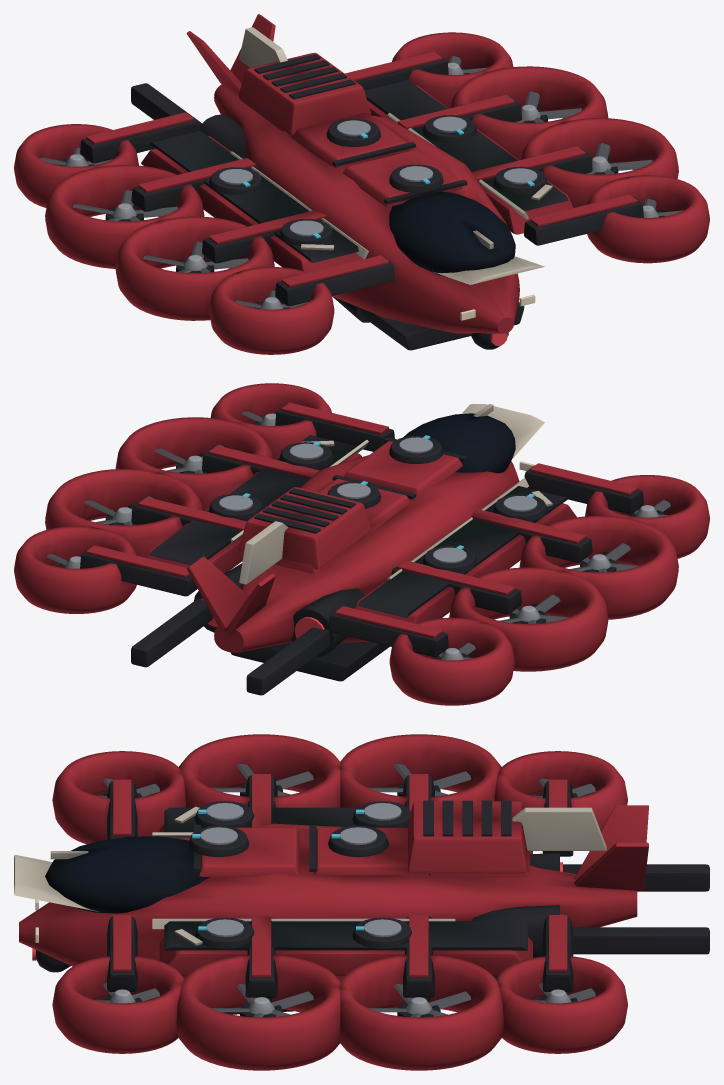
Rendered from ex_gunship_9.glb.
3 views of the same model, one above another, from view 1: azimuth 30°, elevation 25°; view 2: azimuth 150°, elevation 25°; view 3: azimuth 270°, elevation 25° (orthographic). The views are drawn at different scales.
Visible parts, largest first — view 1: body, rotor_5, rotor_6, rotor_2, rotor_1; view 2: body, rotor_5, rotor_6, rotor_2, rotor_1; view 3: body, rotor_1, rotor_2, rotor_6, rotor_5, rotor_3, rotor_0.
Part boxes in pixels (x1=…): body: x1=14, y1=14, x2=709, y2=354; rotor_5: x1=143, y1=241, x2=248, y2=272; rotor_6: x1=73, y1=190, x2=177, y2=221; rotor_2: x1=515, y1=91, x2=581, y2=122; rotor_1: x1=585, y1=143, x2=652, y2=174; body: x1=14, y1=383, x2=709, y2=705; rotor_5: x1=570, y1=543, x2=638, y2=572; rotor_6: x1=499, y1=594, x2=568, y2=623; rotor_2: x1=84, y1=496, x2=153, y2=525; rotor_1: x1=154, y1=444, x2=223, y2=473; body: x1=14, y1=734, x2=709, y2=1070; rotor_1: x1=211, y1=984, x2=313, y2=1017; rotor_2: x1=368, y1=984, x2=471, y2=1017; rotor_6: x1=368, y1=764, x2=470, y2=796; rotor_5: x1=210, y1=763, x2=313, y2=796; rotor_3: x1=531, y1=983, x2=595, y2=1003; rotor_0: x1=96, y1=983, x2=159, y2=1003.
Bounding box in the file's own units: 15.24 × 4.28 × 15.17.
